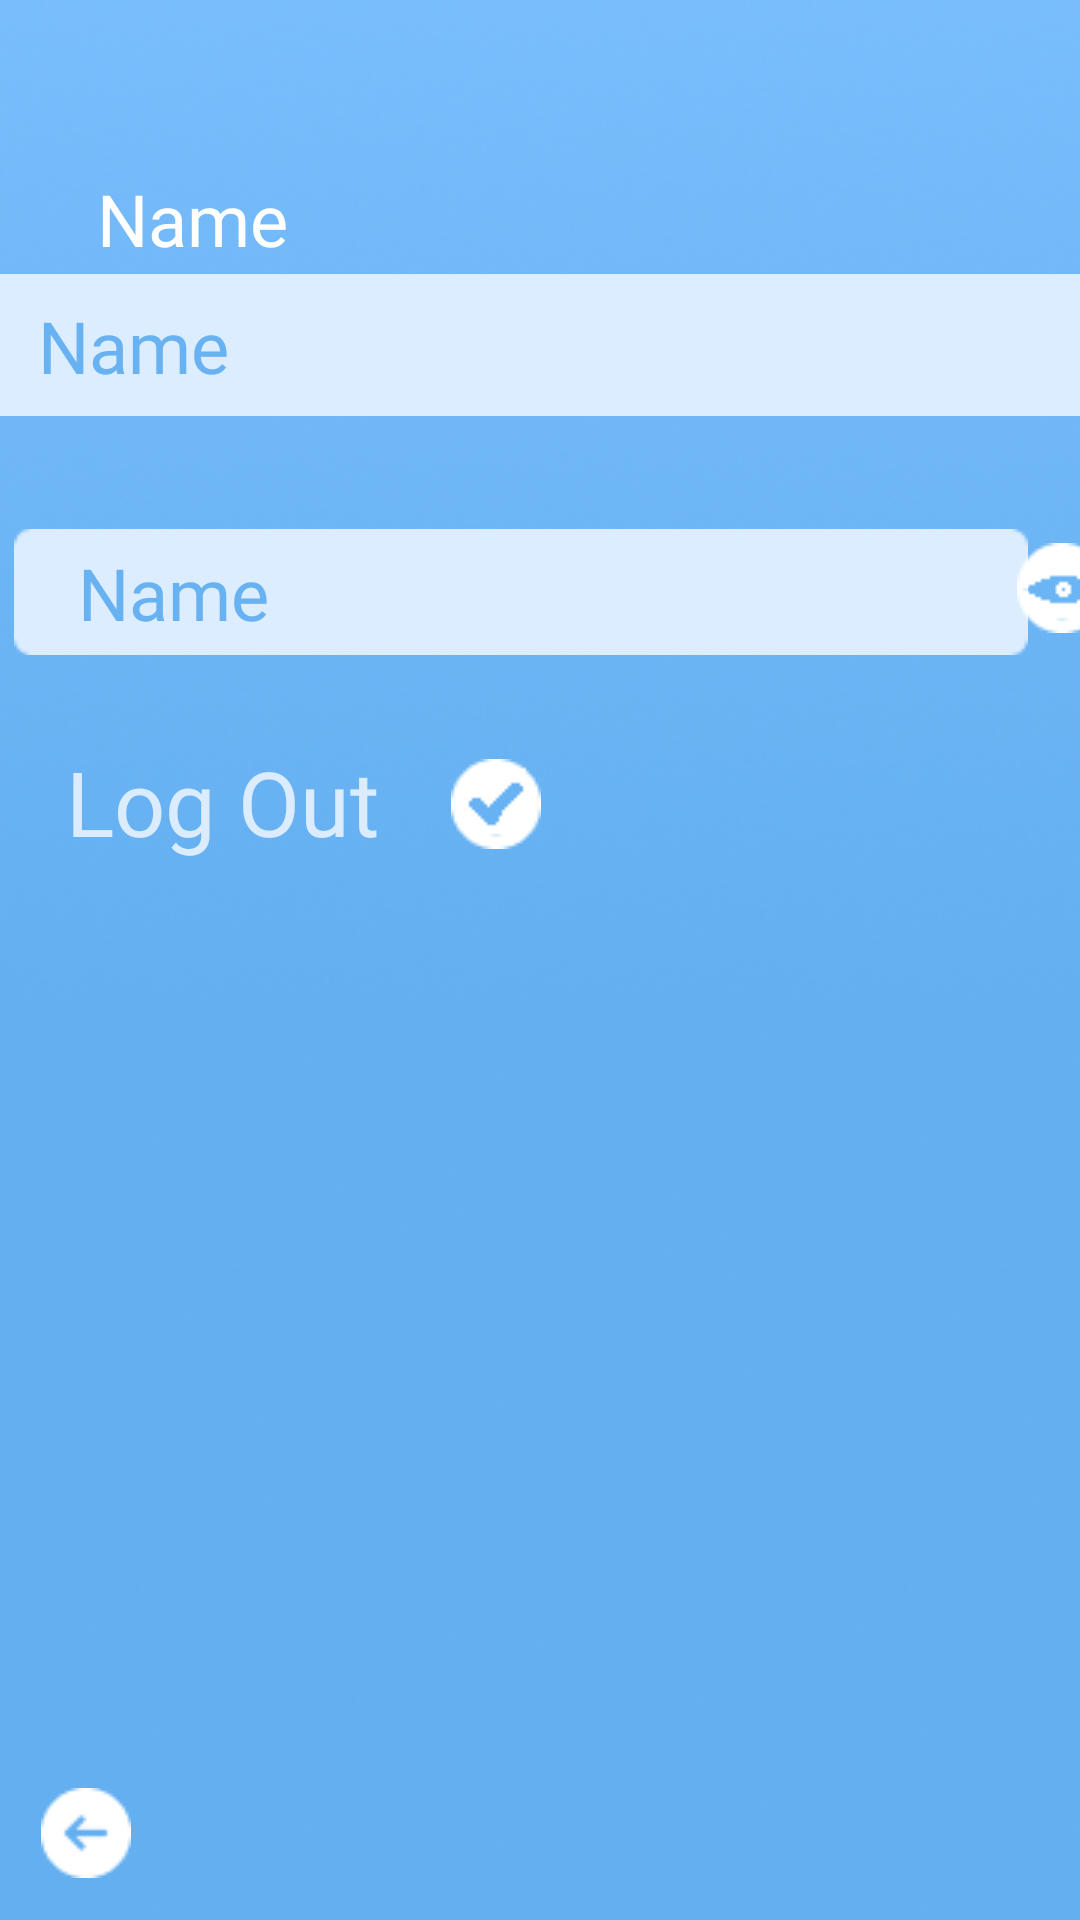

Where icons sit on this 1080 × 1920 app screen, as (left=x1, top=y1, right=x2, bottom=y2):
acsept: (left=451, top=759, right=541, bottom=849)
back: (left=41, top=1788, right=131, bottom=1878)
